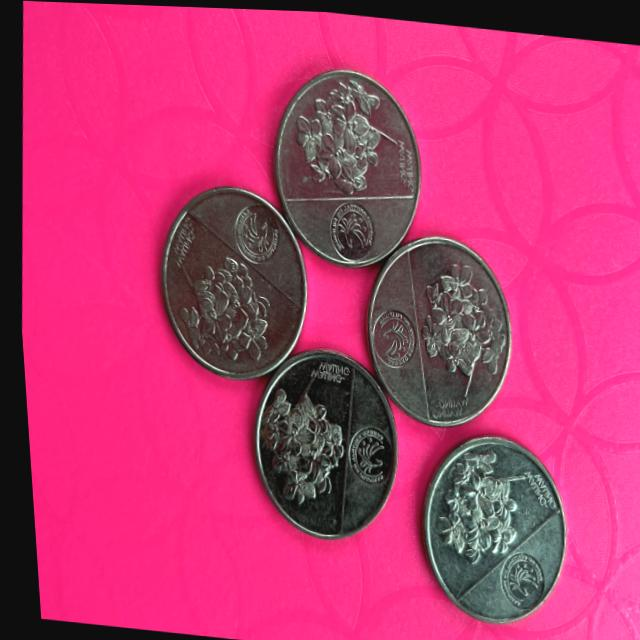1_New_Back: (282, 69, 393, 198), (402, 252, 500, 394), (160, 242, 270, 365), (410, 443, 521, 560), (250, 377, 344, 501)
